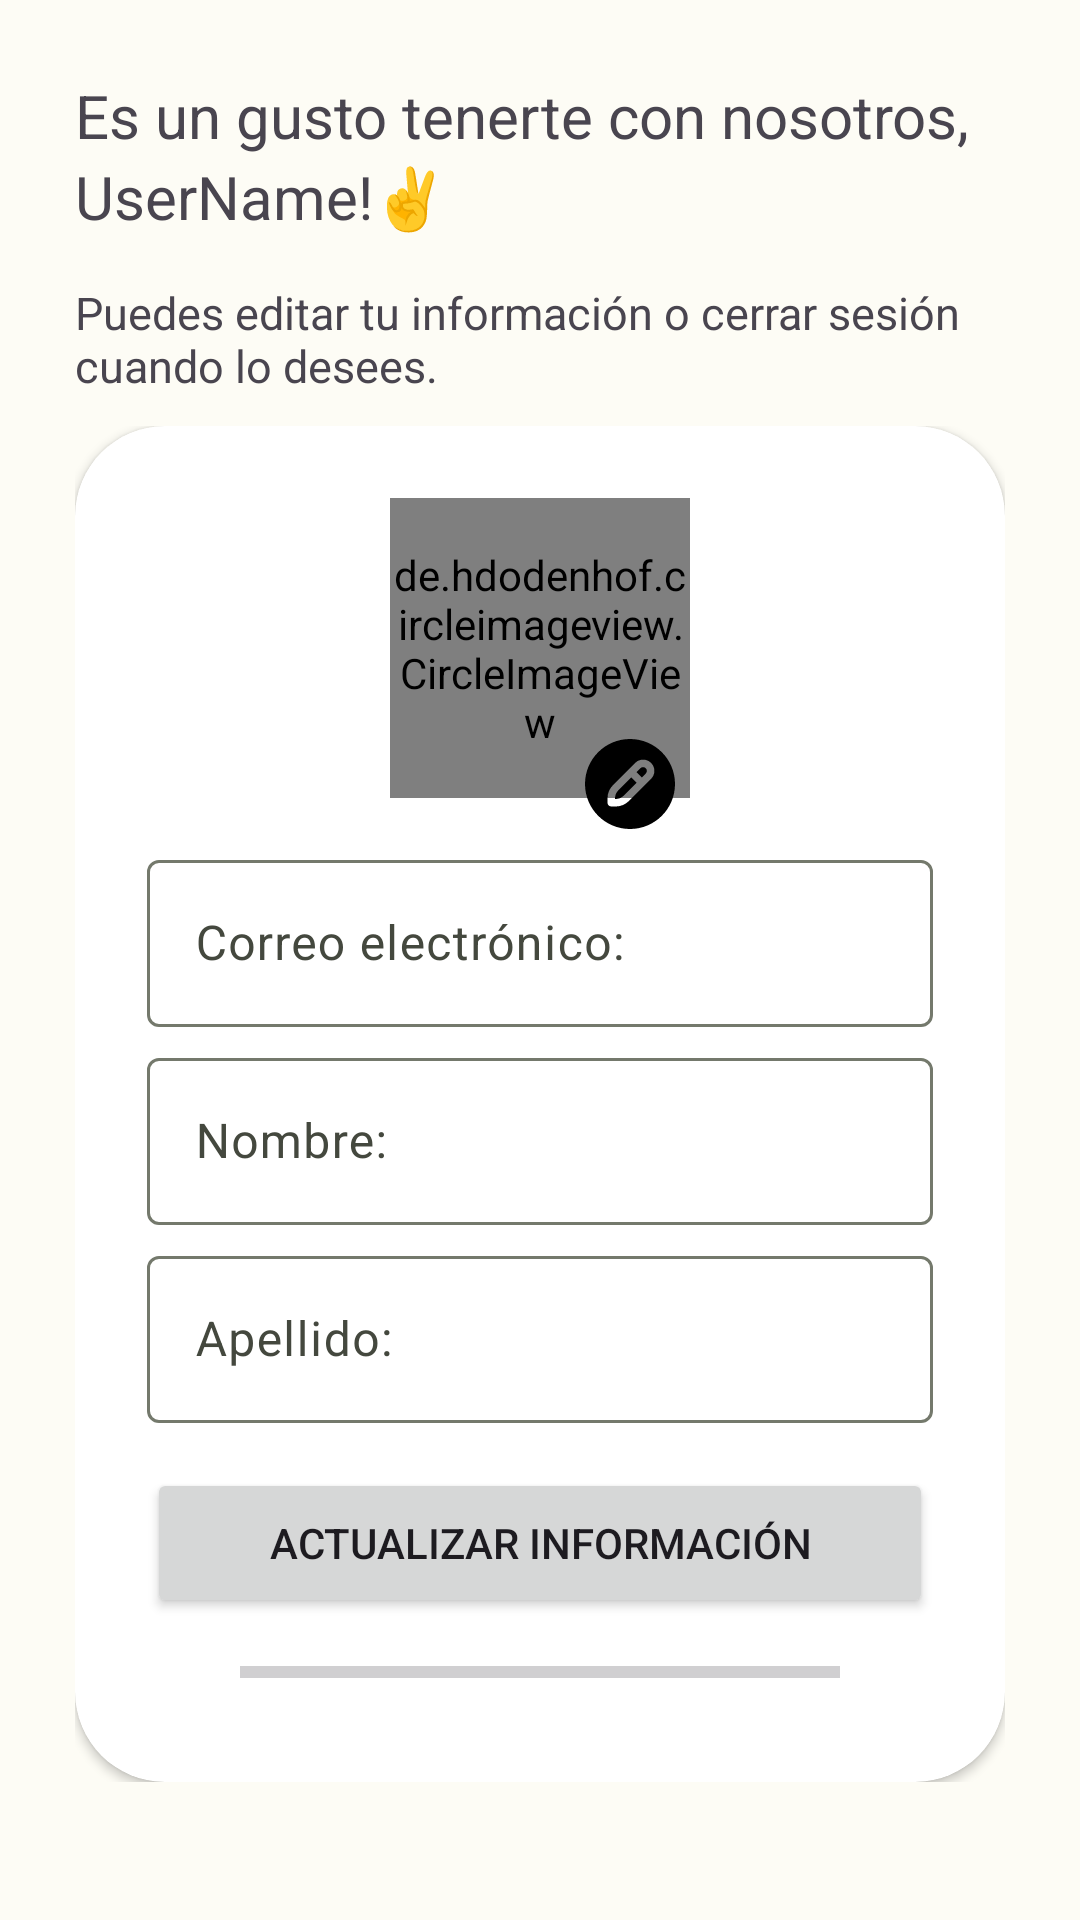

Icon click points for this 1080x1920 phone screenshot, format [x,y]:
lapiz: [630,784]
